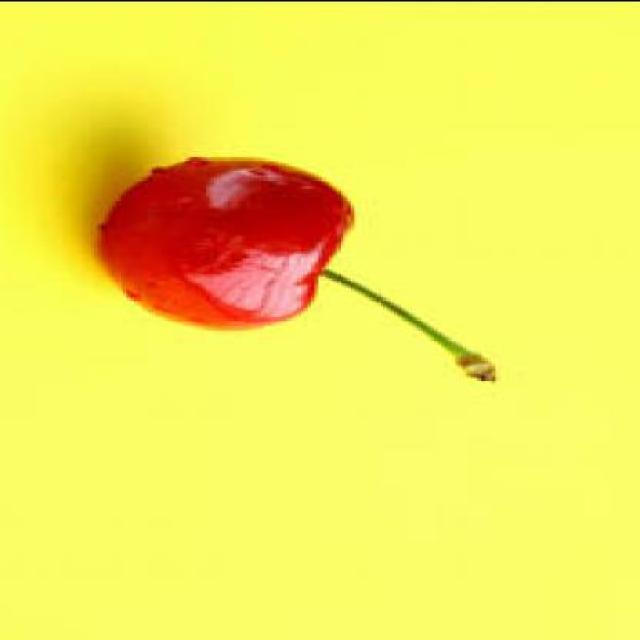BIODEGRADABLE: (99, 158, 494, 379)
